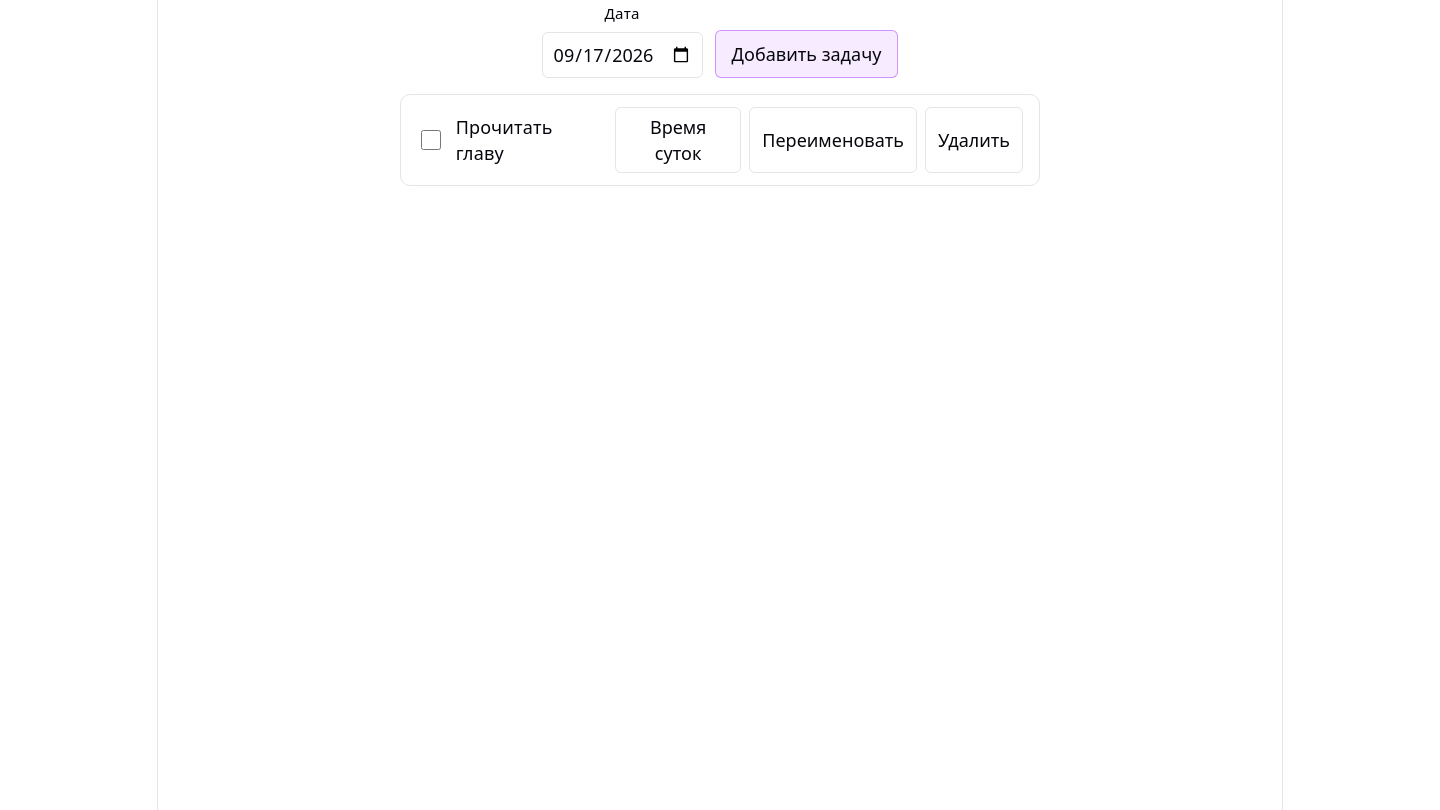
Test case: TasksTab › отклоняет переименование задачи без названия
Check: the text "Прочитать главу" is shown, box [456, 115, 553, 165]
Click the button with aria-label "Переименовать Прочитать главу". click: click(833, 140)
box: [749, 107, 917, 173]
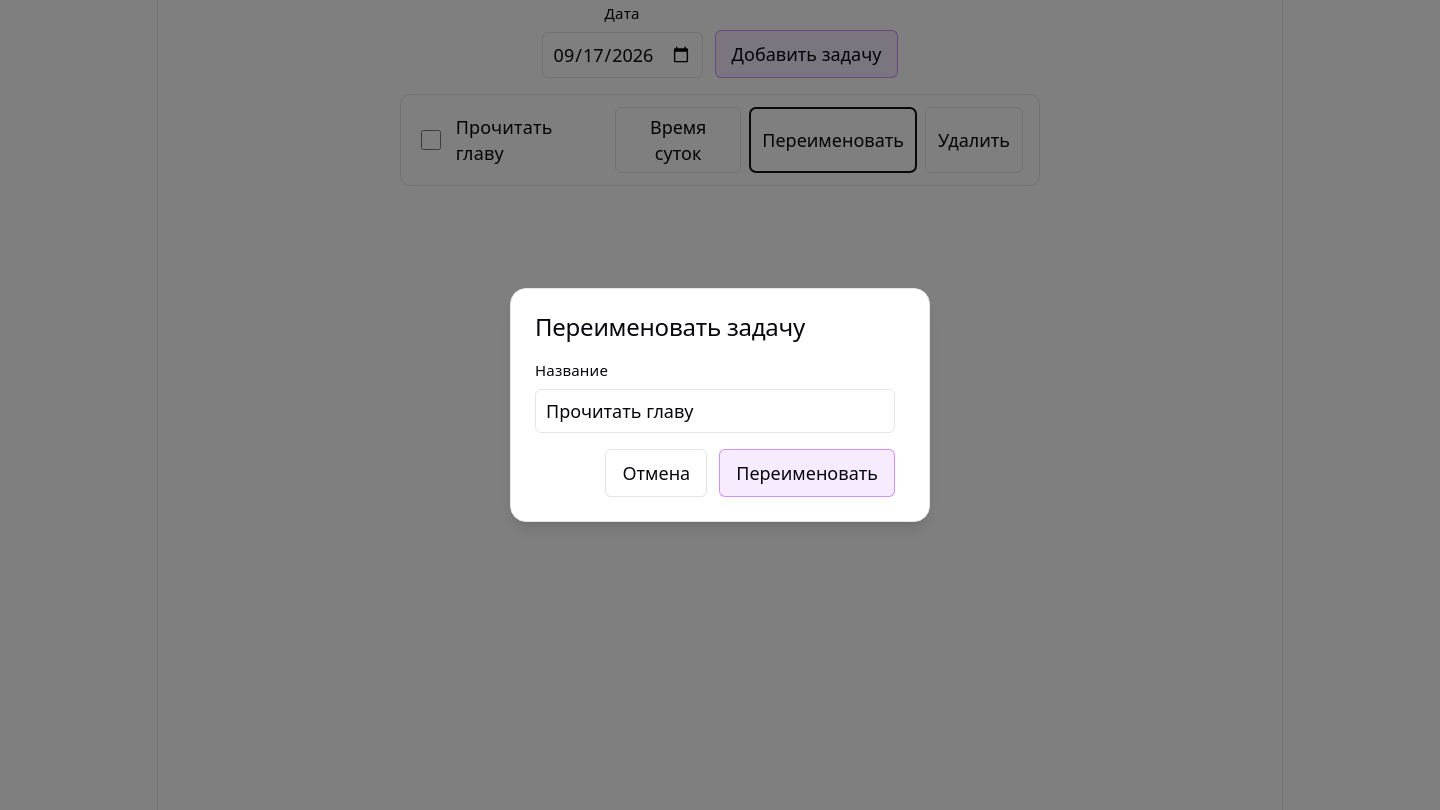
Clear the field labelled "Название". click: (715, 411)
box: [535, 389, 895, 433]
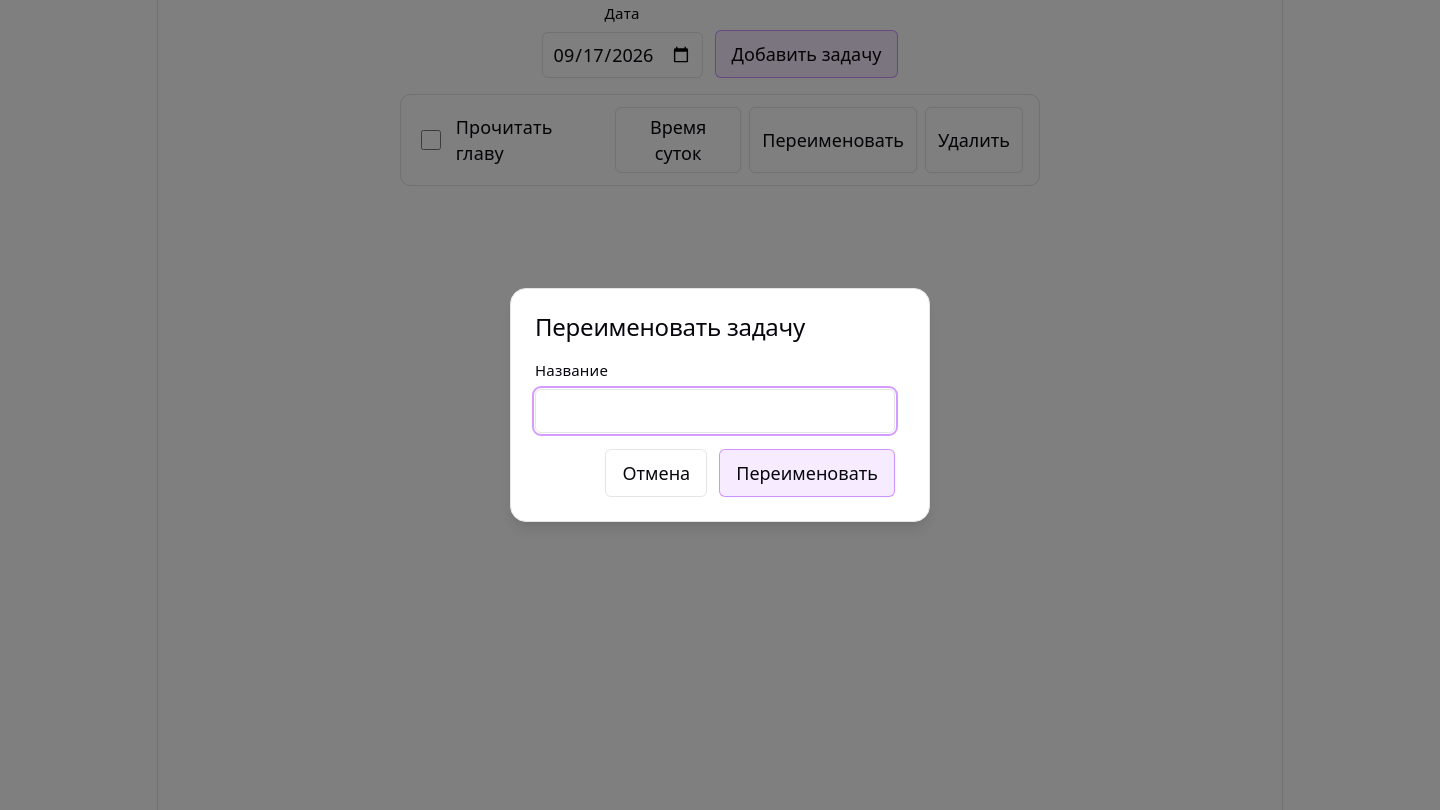
Click the button "Переименовать". click: click(807, 473)
box: [719, 449, 895, 497]
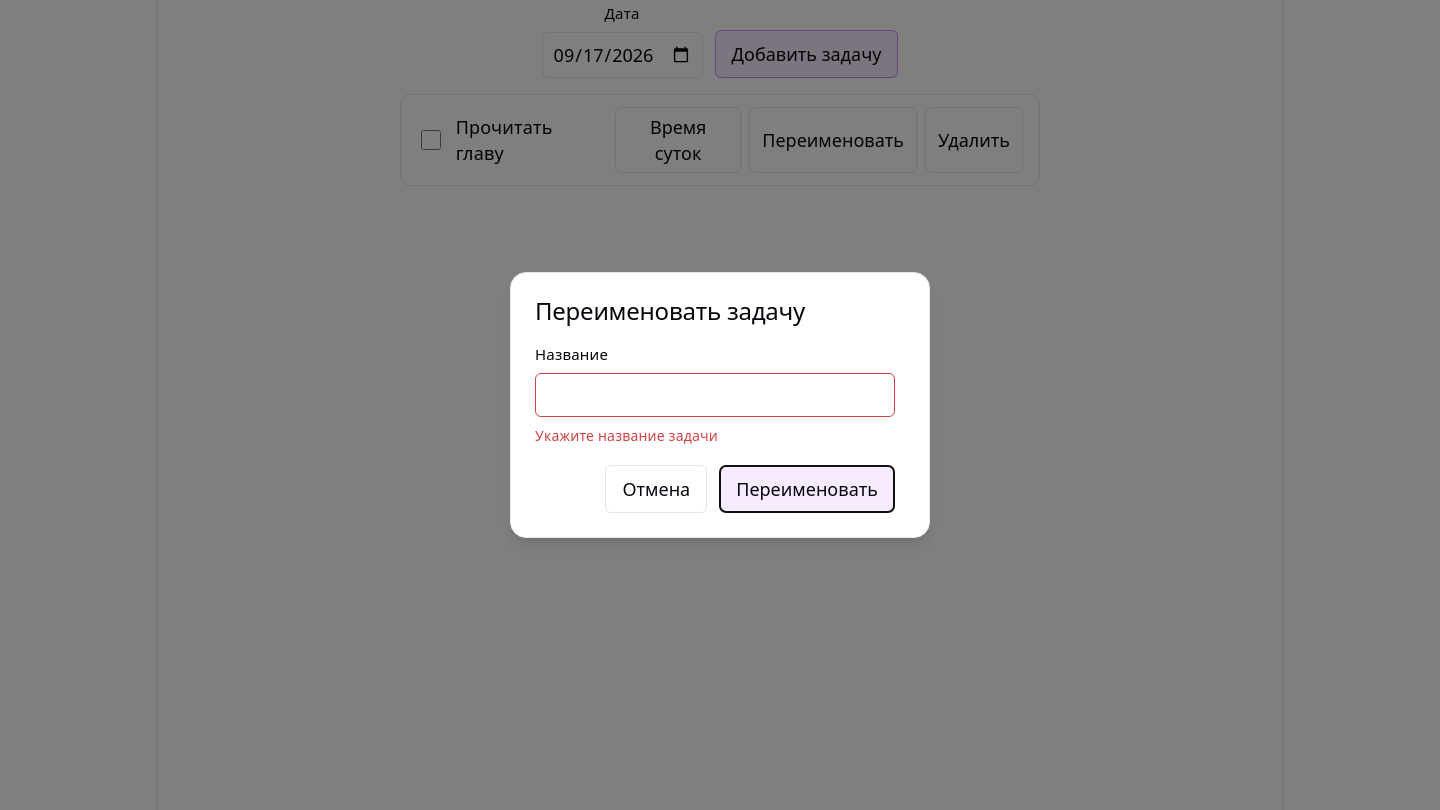
Check: the text "Укажите название задачи" is shown, box [535, 426, 718, 445]
